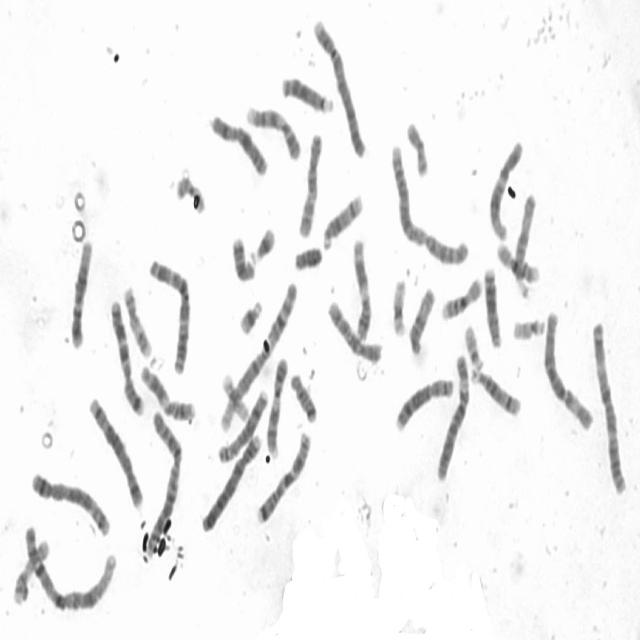A1: (216, 274, 301, 432), (20, 516, 120, 616)
A2: (388, 137, 471, 267), (144, 404, 183, 557)
A3: (590, 314, 629, 496), (146, 250, 192, 376)
B4: (311, 13, 368, 160), (198, 427, 263, 536)
B5: (85, 390, 146, 510), (28, 465, 112, 539)
C10: (324, 293, 384, 366), (296, 126, 325, 239)
C11: (137, 358, 198, 423), (349, 233, 373, 344)
C12: (486, 134, 525, 241), (67, 232, 94, 350)
C6: (540, 303, 595, 433), (433, 346, 472, 482)
C7: (253, 426, 313, 526), (106, 290, 146, 418)
C8: (213, 383, 269, 466), (392, 371, 456, 434)
C9: (243, 99, 303, 162), (264, 352, 289, 459)
D13: (279, 69, 335, 115), (481, 261, 505, 350)
D14: (467, 361, 523, 418), (320, 186, 364, 252)
D15: (511, 186, 538, 297), (406, 280, 436, 358)
E16: (438, 271, 484, 322), (493, 235, 540, 284)
E17: (9, 532, 52, 608), (120, 280, 154, 360)
E18: (287, 365, 319, 424), (229, 230, 257, 283)
F19: (219, 368, 250, 423), (388, 272, 408, 339)
F20: (403, 115, 431, 179), (173, 169, 208, 216)
G21: (247, 220, 278, 265), (236, 292, 264, 336)
G22: (462, 318, 485, 371), (510, 310, 547, 342)
X: (208, 107, 270, 178)
Y: (290, 240, 324, 273)
